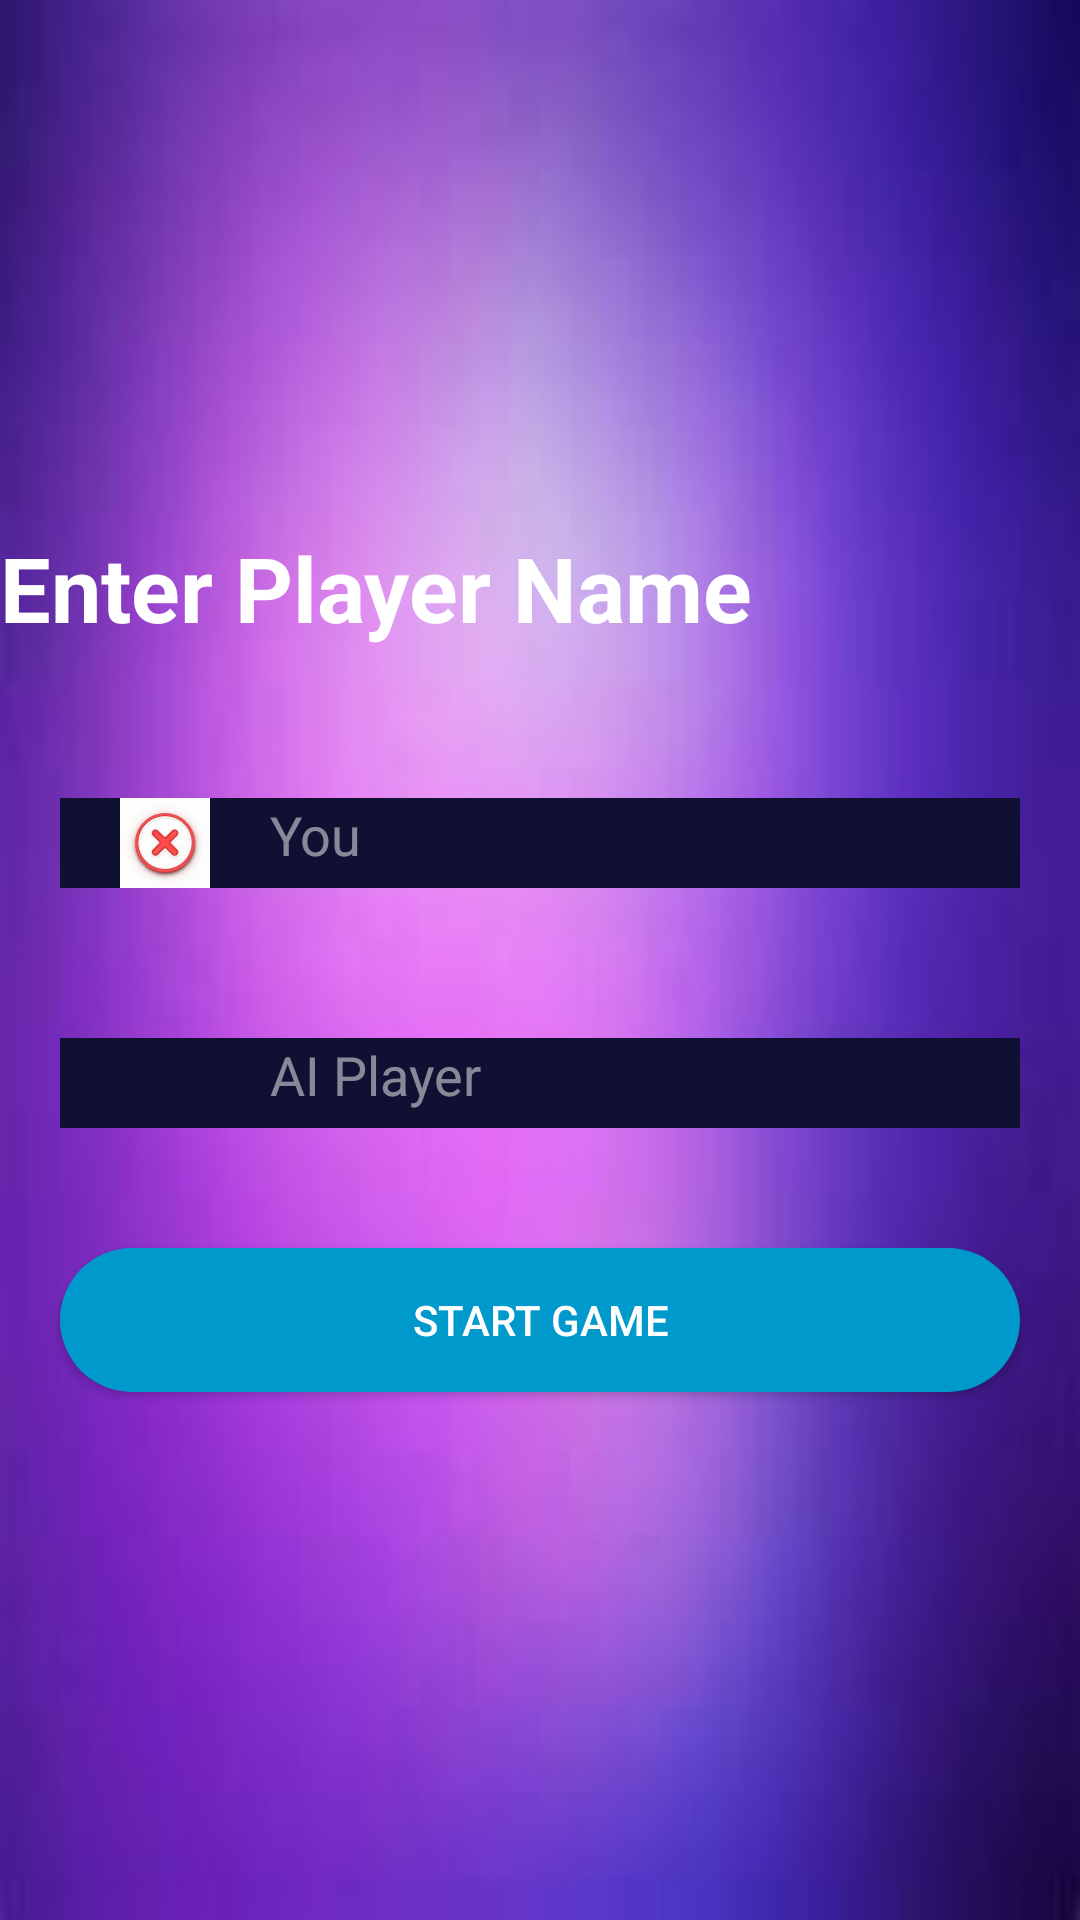

Named icons in this screenshot (1080*1920) and their centers, (x=x, y=y):
cross id: (x=165, y=843)
